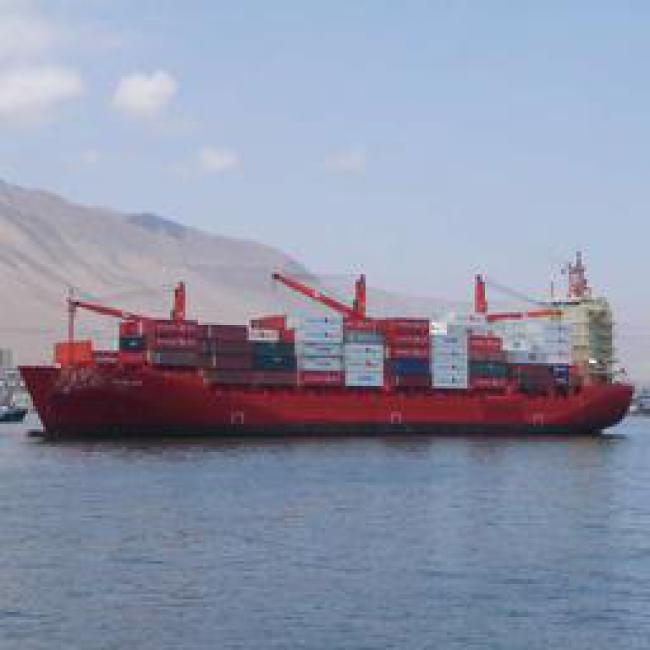Ship: (25, 296, 636, 437)
